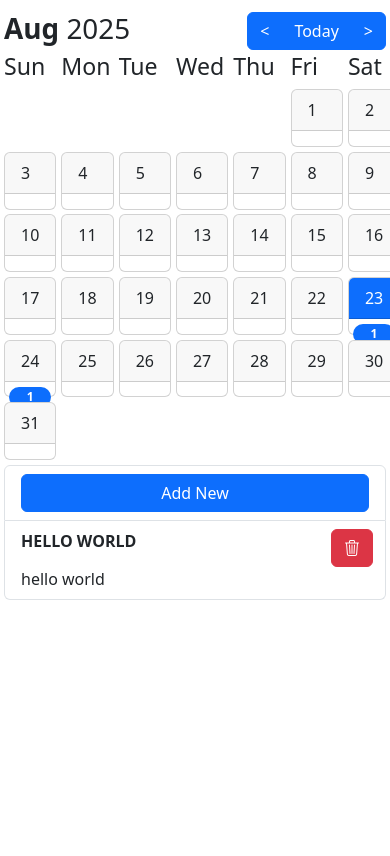
Scenario: calendar navigation, some events, smaller screen
What coordinates should you click on to do the following:
click the button named "create new event"
I would click on:
 (195, 493)
Its box is [21, 474, 369, 512].
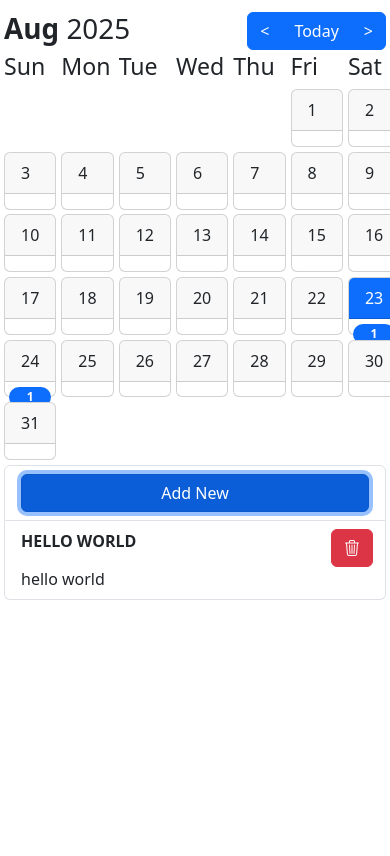
What coordinates should you click on to do the following:
click the button "15"
I would click on:
 (317, 246)
Its box is [291, 214, 343, 277].
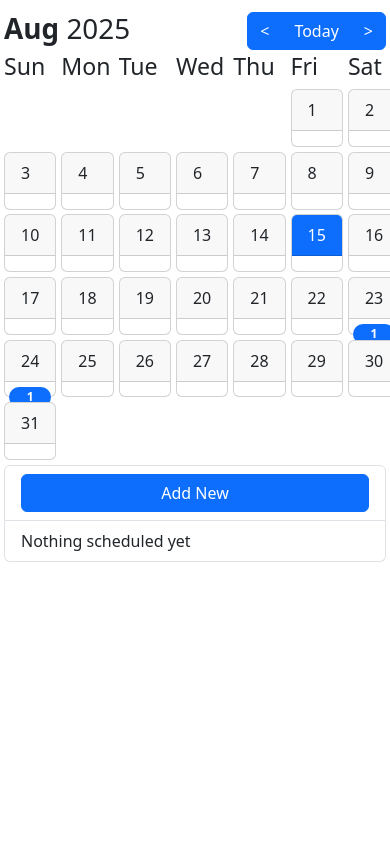
expect the text "Nothing scheduled yet" is shown: met, box [4, 521, 386, 562]
